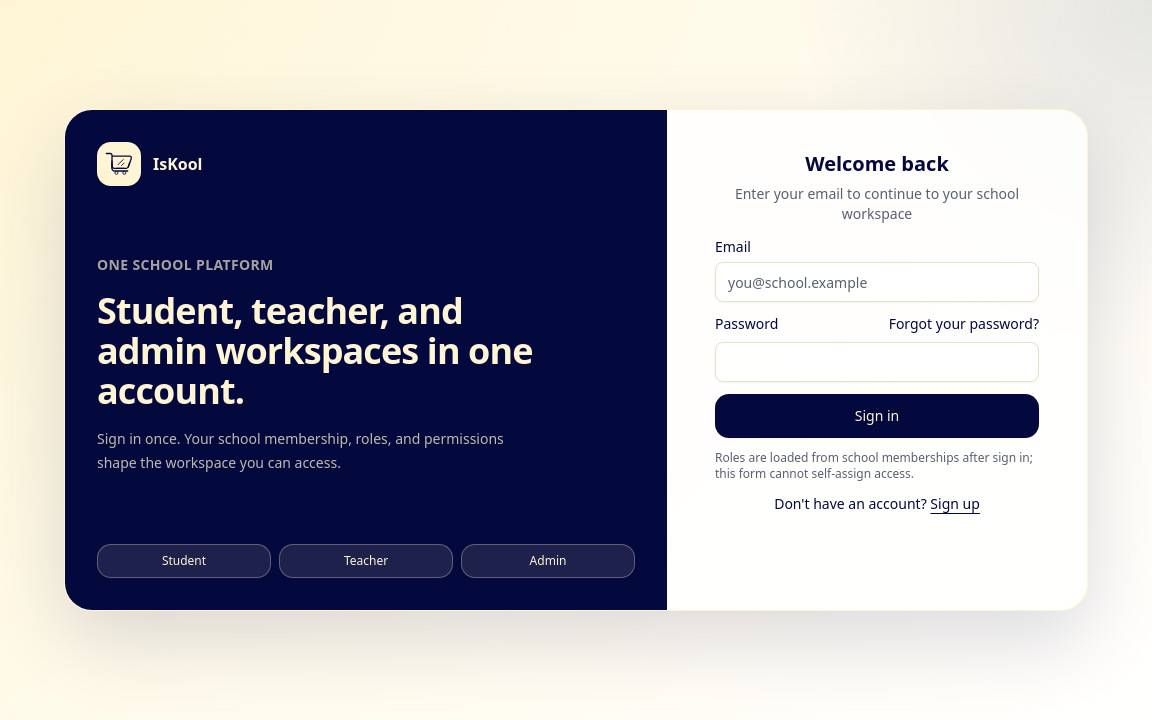
Test: local development account selection › keeps invalid credentials subject to real login rejection
This screenshot has width=1152, height=720.
Click the button "Admin": (548, 561) [461,544,635,578]
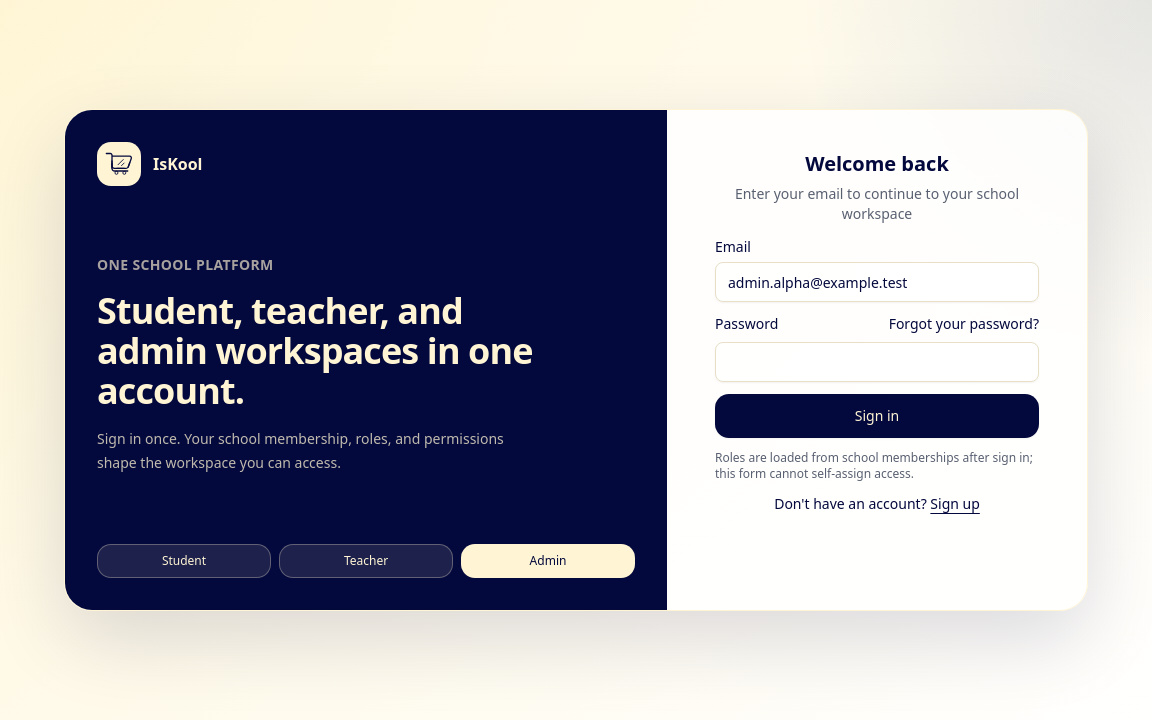
In the password field labelled "Password": (877, 362) [715,342,1039,382], type "invalid-password"
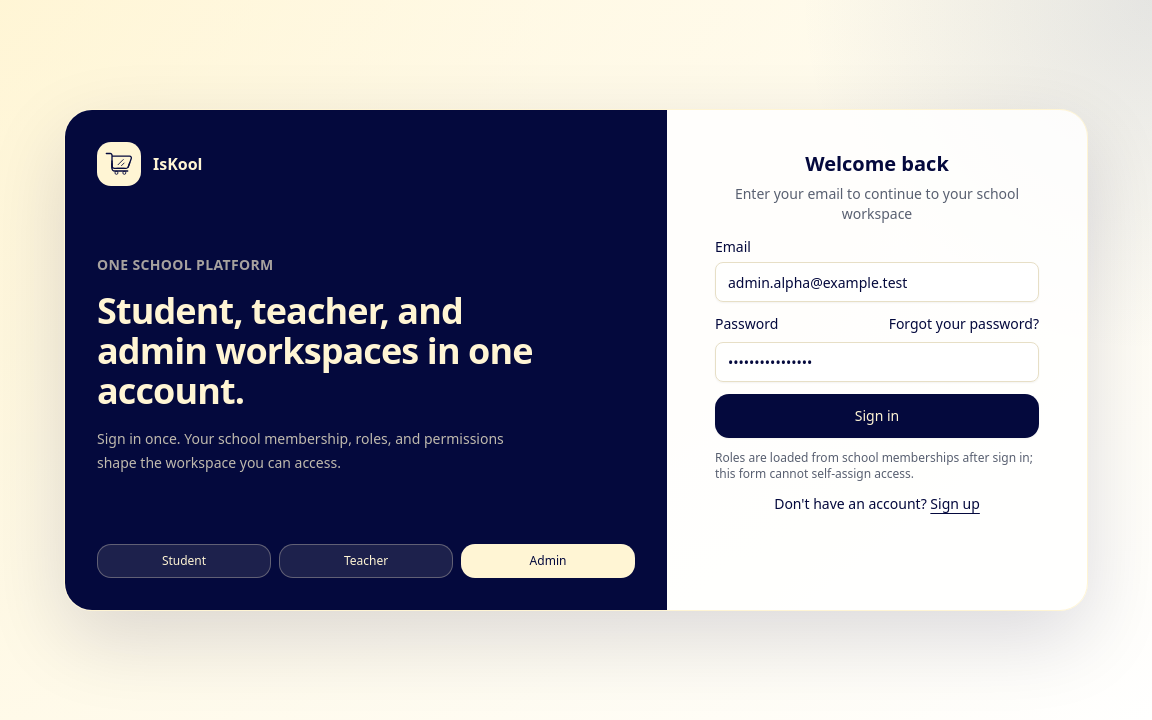
Click the button "Sign in": (877, 416) [715,394,1039,438]
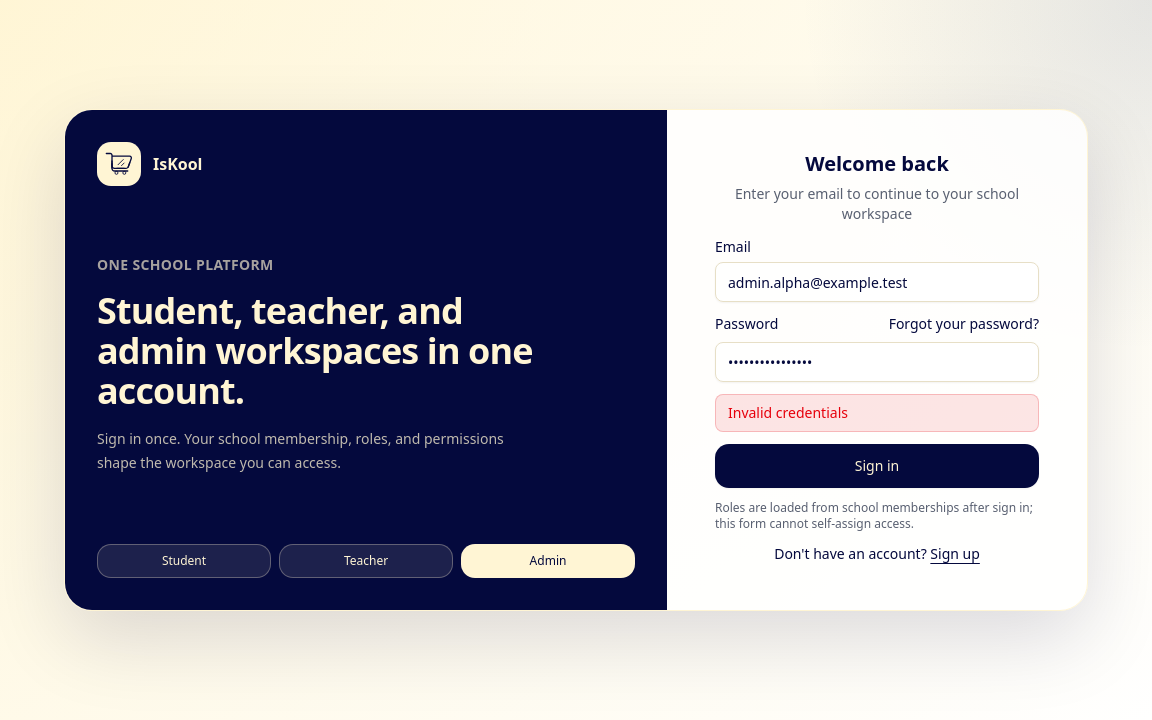
Result: the message reads "Invalid credentials" at [728,403,848,422]
